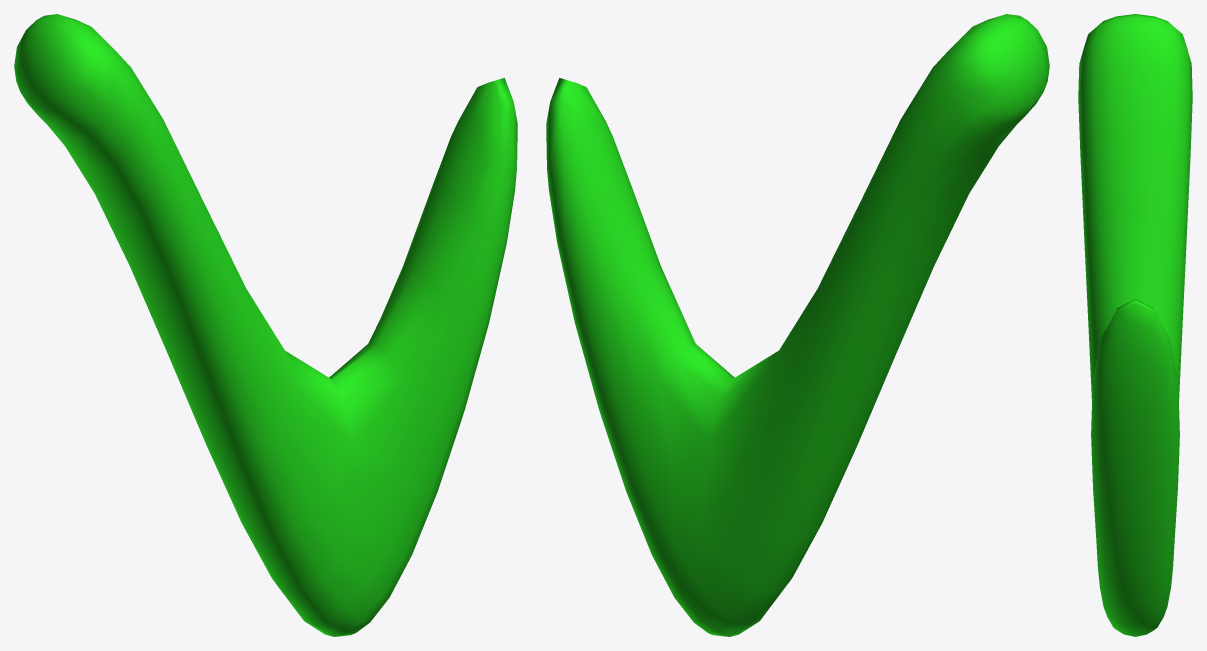
The model's file is check.glb.
The picture shows the model from 3 angles, left to right: view 1: azimuth 30°, elevation 25°; view 2: azimuth 150°, elevation 25°; view 3: azimuth 270°, elevation 25°; orthographic projection. The views are drawn at different scales.
Parts seen in each view (by area): view 1: Cube.001; view 2: Cube.001; view 3: Cube.001.
Part boxes in pixels (x1=…): Cube.001: x1=14, y1=14, x2=517, y2=636; Cube.001: x1=546, y1=14, x2=1049, y2=636; Cube.001: x1=1078, y1=14, x2=1192, y2=636.
Bounding box in the file's own units: 3.28 × 4.42 × 0.8852.
